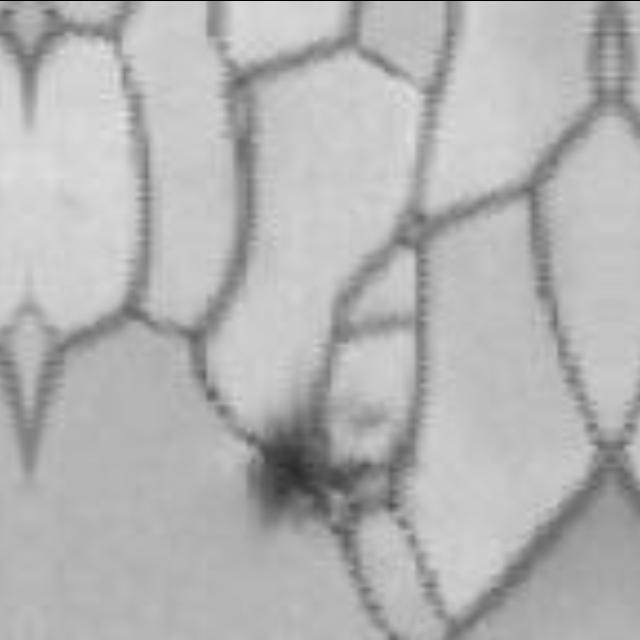good_void: (242, 427, 364, 536)
